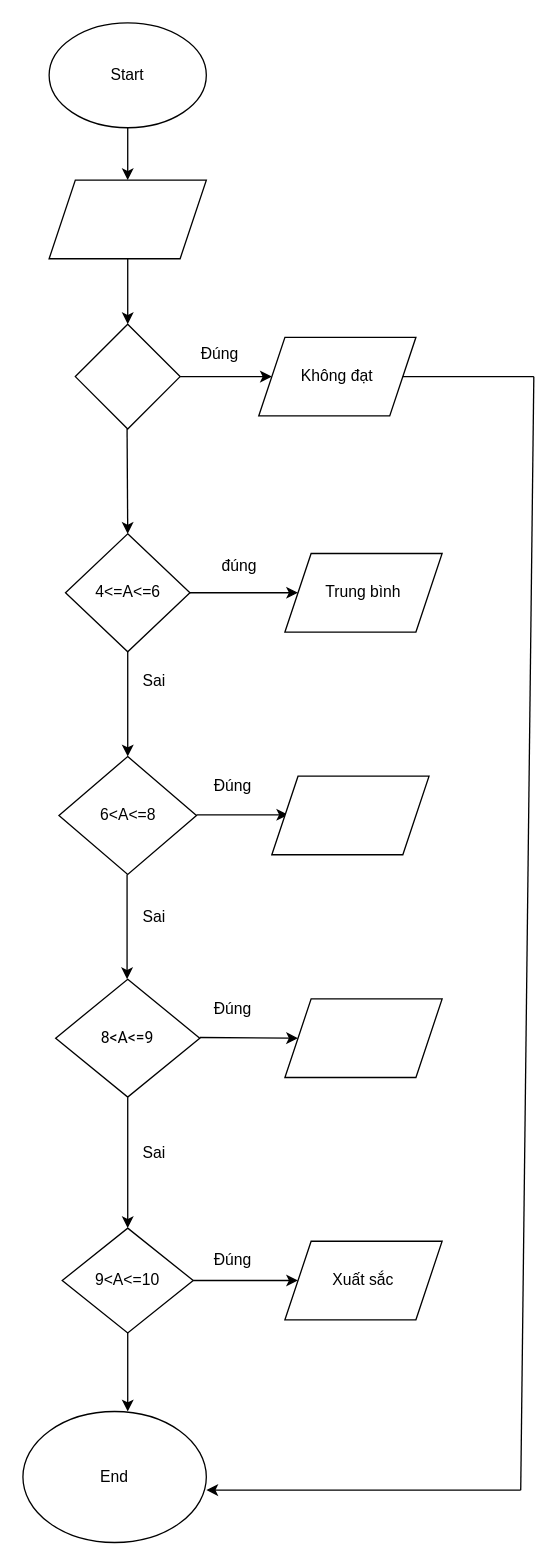
The diagram is 558 pixels wide and 1565 high, and some of its shapes have lost their labels. The box of each missing label's shape, as (x1, y1, x2, y2) in pixels:
A<4: (74, 323, 180, 429)
Giỏi: (284, 998, 442, 1077)
Khá: (271, 775, 429, 855)
nhập vào A: (48, 179, 206, 259)
